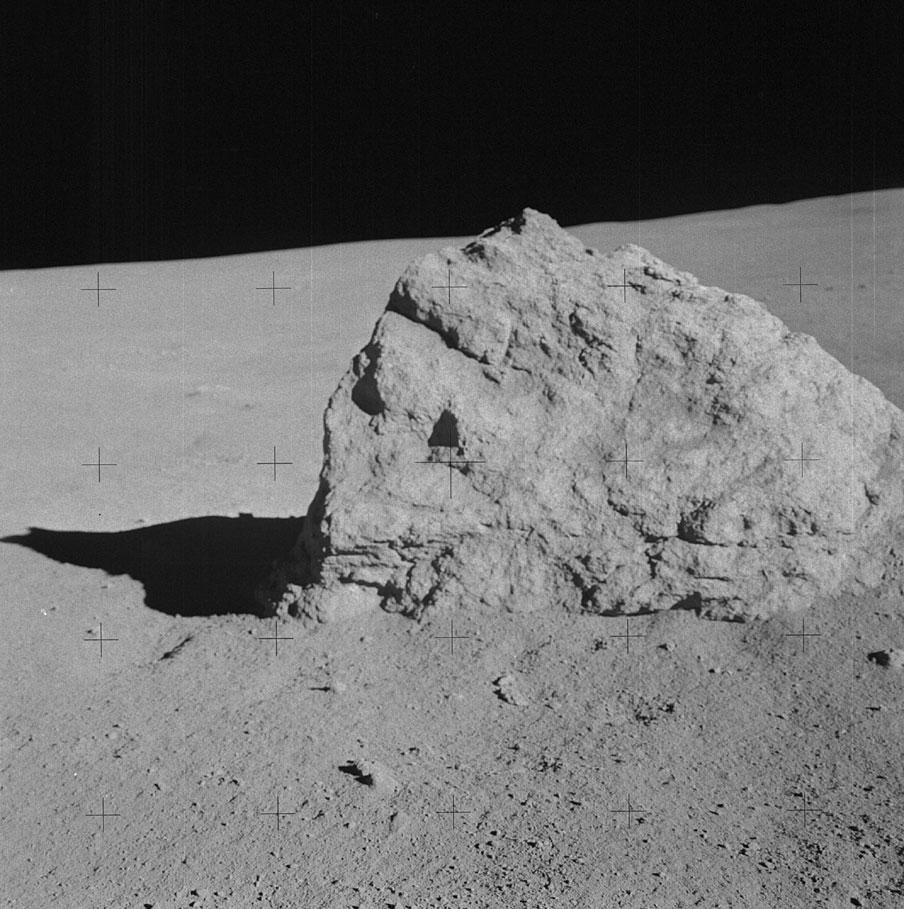rock: (272, 209, 902, 620)
